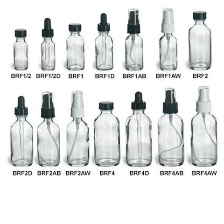bottle: (90, 97, 123, 168), (188, 99, 220, 169), (155, 101, 186, 169), (122, 100, 153, 168), (184, 7, 215, 72), (64, 106, 91, 168), (8, 105, 34, 168), (36, 106, 62, 167), (118, 21, 148, 73), (153, 20, 182, 73), (91, 20, 116, 74), (63, 19, 86, 72), (10, 24, 32, 70), (37, 27, 58, 72)
